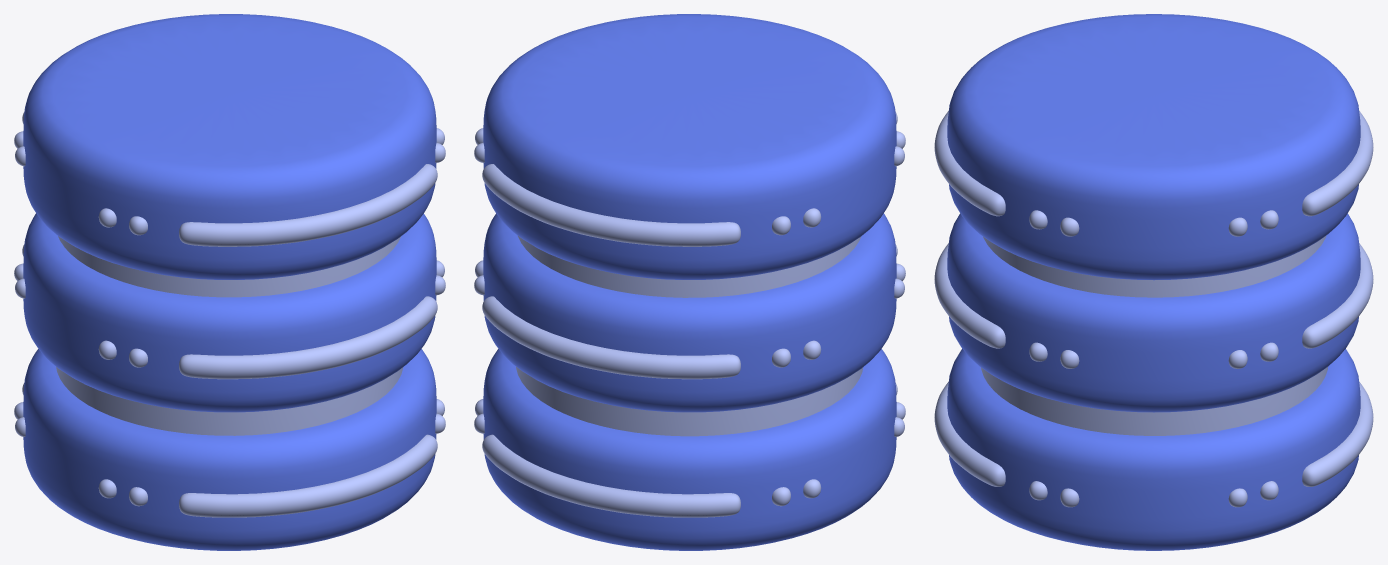
File: database.glb
3 renders of one model, left to right at view 1: azimuth 30°, elevation 25°; view 2: azimuth 150°, elevation 25°; view 3: azimuth 270°, elevation 25°, orthographic.
Visible parts, largest first — view 1: Cylinder, Cylinder.008, Cylinder.005, Cylinder.009, Cylinder.004, Cylinder.007, Cylinder.001, Cylinder.003, Cylinder.002, Cylinder.006; view 2: Cylinder, Cylinder.008, Cylinder.005, Cylinder.009, Cylinder.004, Cylinder.007, Cylinder.001, Cylinder.003, Cylinder.002, Cylinder.006; view 3: Cylinder, Cylinder.008, Cylinder.005, Cylinder.009, Cylinder.004, Cylinder.001, Cylinder.007, Cylinder.006, Cylinder.003, Cylinder.002.
Boxes of the visible parts, <box> form: Cylinder: <box>23,14,436,279</box>; Cylinder.008: <box>23,349,436,550</box>; Cylinder.005: <box>23,213,436,412</box>; Cylinder.009: <box>56,236,403,435</box>; Cylinder.004: <box>22,245,437,379</box>; Cylinder.007: <box>22,383,437,517</box>; Cylinder.001: <box>22,112,437,246</box>; Cylinder.003: <box>14,128,445,235</box>; Cylinder.002: <box>14,260,445,367</box>; Cylinder.006: <box>14,399,445,506</box>; Cylinder: <box>483,14,896,279</box>; Cylinder.008: <box>483,349,896,550</box>; Cylinder.005: <box>483,213,896,412</box>; Cylinder.009: <box>516,236,863,436</box>; Cylinder.004: <box>482,245,897,379</box>; Cylinder.007: <box>482,383,897,517</box>; Cylinder.001: <box>482,112,897,246</box>; Cylinder.003: <box>474,128,905,235</box>; Cylinder.002: <box>474,260,905,367</box>; Cylinder.006: <box>474,399,905,506</box>; Cylinder: <box>947,14,1360,280</box>; Cylinder.008: <box>947,349,1360,550</box>; Cylinder.005: <box>947,213,1360,412</box>; Cylinder.009: <box>981,235,1327,435</box>; Cylinder.004: <box>934,243,1373,348</box>; Cylinder.001: <box>934,111,1373,216</box>; Cylinder.007: <box>934,381,1373,486</box>; Cylinder.006: <box>1029,481,1278,507</box>; Cylinder.003: <box>1029,210,1278,236</box>; Cylinder.002: <box>1029,342,1278,368</box>.
Size of the model in its own units: 1.22 by 1.25 by 1.29.
